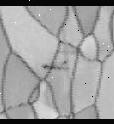good_void: (42, 64, 61, 67), (63, 60, 67, 62)
